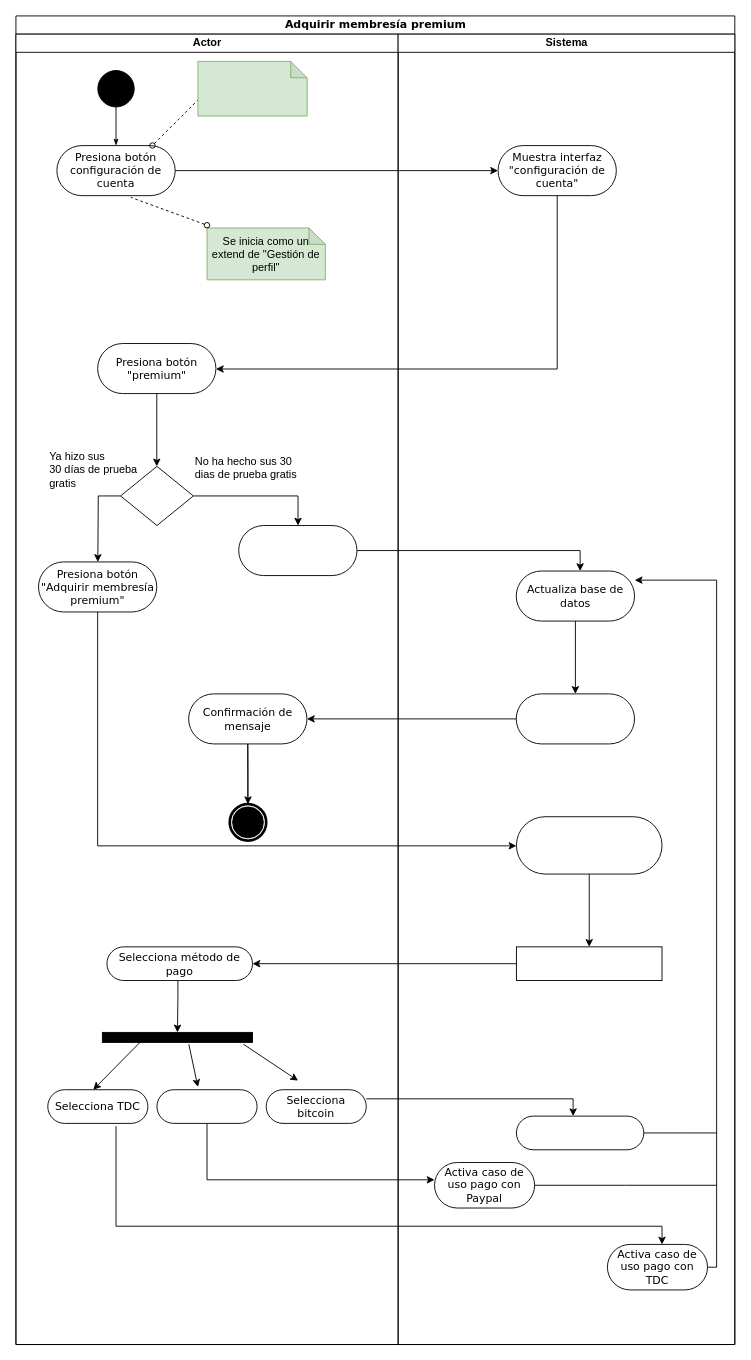
This 751x1360 diagram has some shape labels left out. The shapes that lost their labels are listed below. From the top down, each one's centre as x and y in pixels, then its label:
point (252, 88): El usuario debe estar registrado en el sistema
point (297, 550): Presiona botón "Empezar 30 días de prueba gratis"
point (575, 718): Muestra mensaje "Ahora usted es usuario premium"
point (589, 845): Muestra interfaz "Lista de métodos de pago disponibles"
point (589, 963): Métodos de pago
point (206, 1106): Selecciona Paypal
point (580, 1132): Activa caso de uso pago con bitcoin
